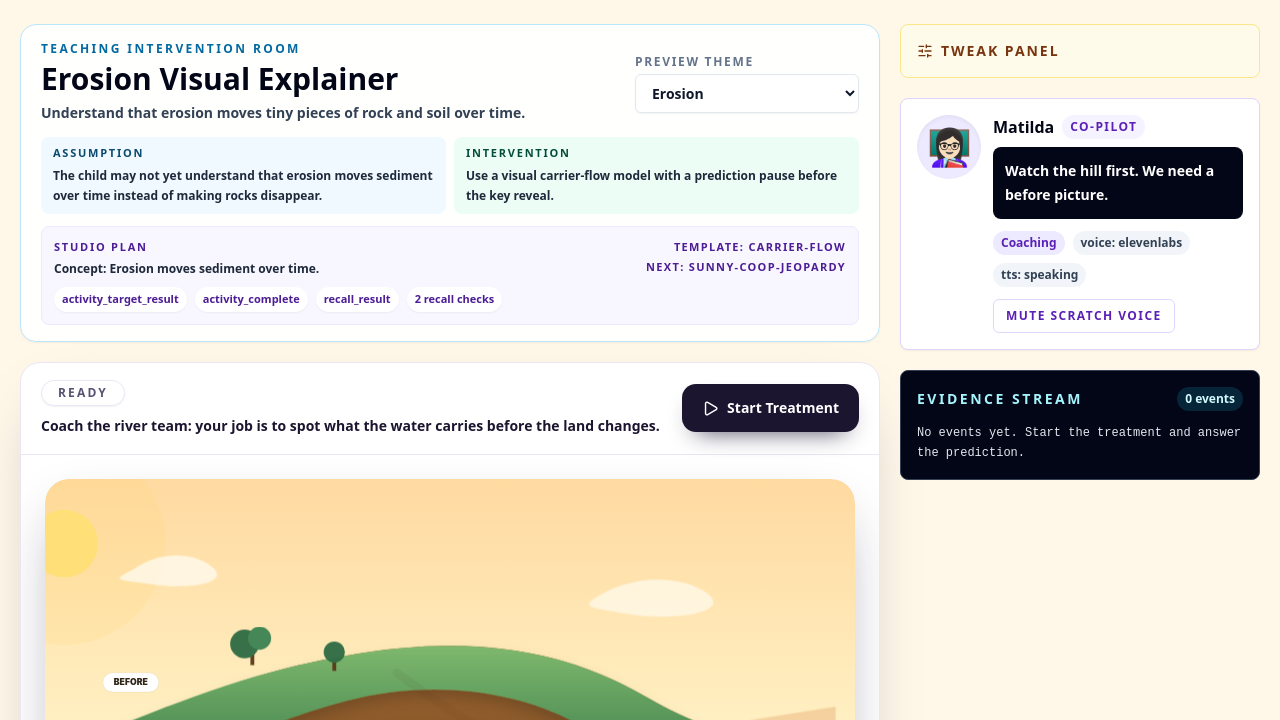
VisualExplainerDemo › shows a preview-only topic dropdown that swaps dynamic visual content
Select "Red Blood Cells" in the dropdown with test id "visual-brief-switcher": (747, 93) [635,74,859,112]
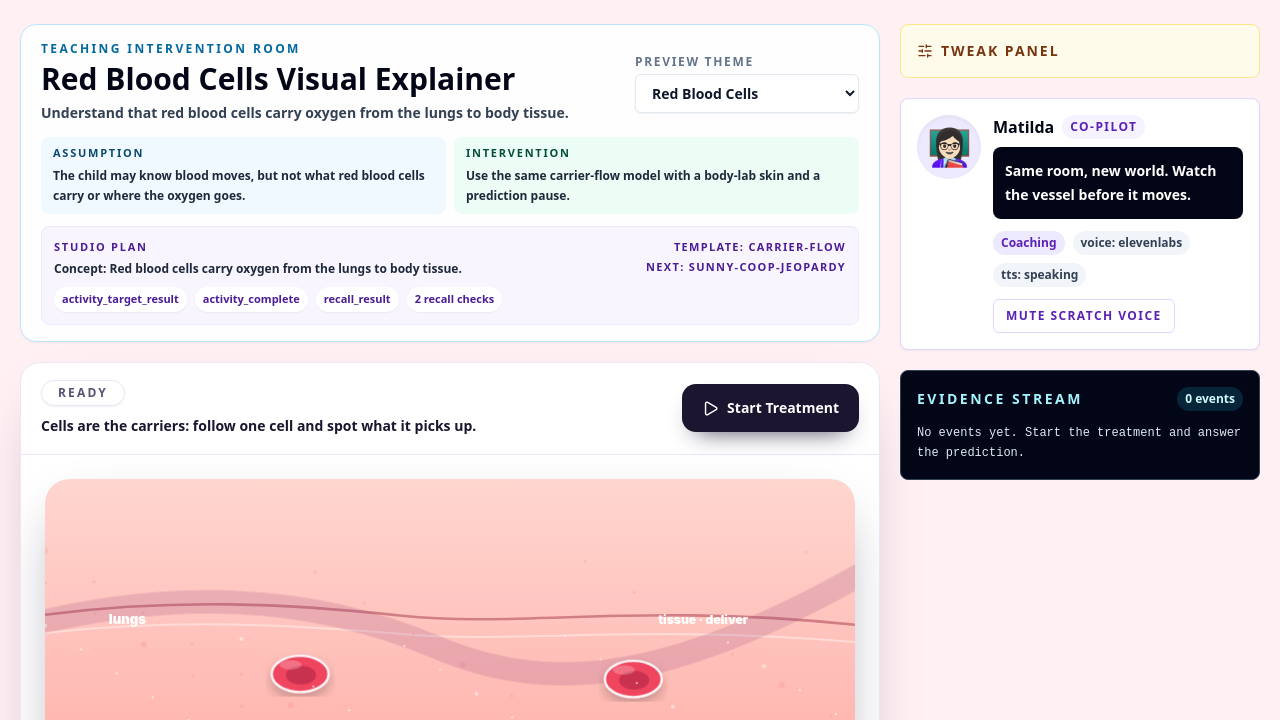
Expected: the heading "Red Blood Cells Visual Explainer" is shown, [41,61,569,97]
Expected: the element with test id "visual-studio-plan" shows "Red blood cells carry oxygen", [110,260,462,277]
Expected: the text "Cells are the carriers" is shown, [41,416,476,434]
